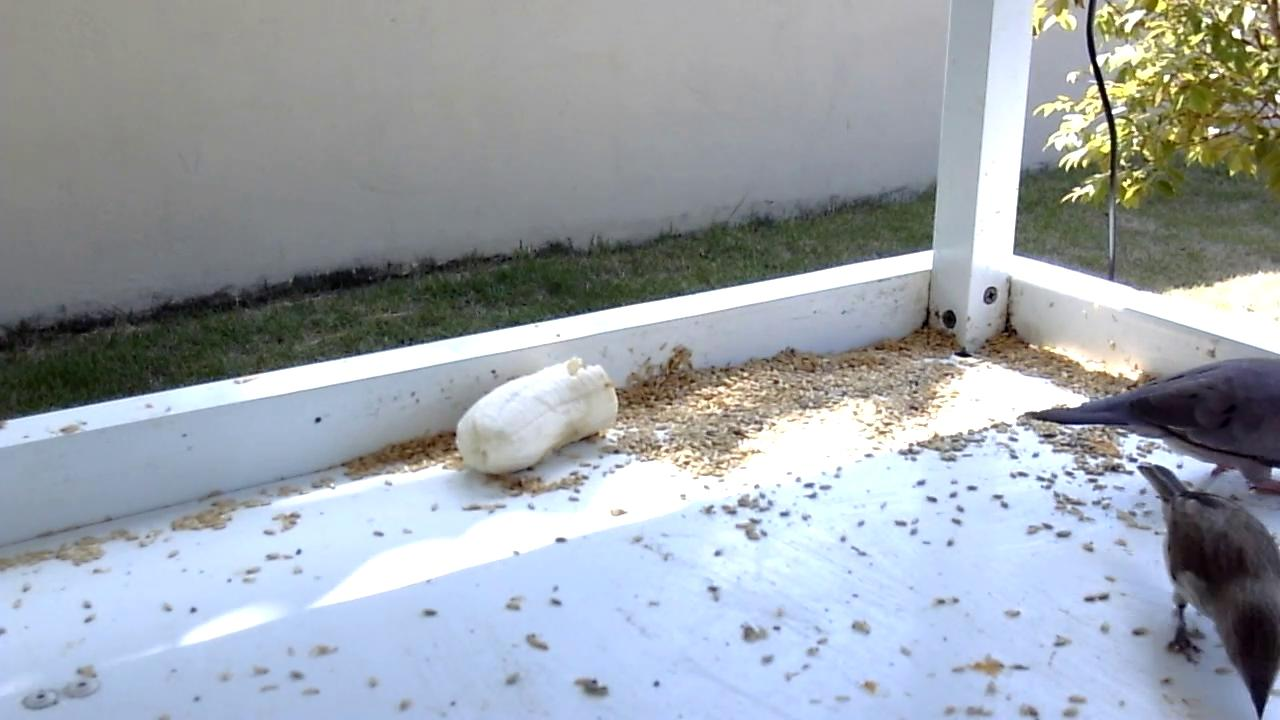canario_do_amazonas: (1134, 459, 1280, 720)
rolinha: (1019, 357, 1280, 498)
